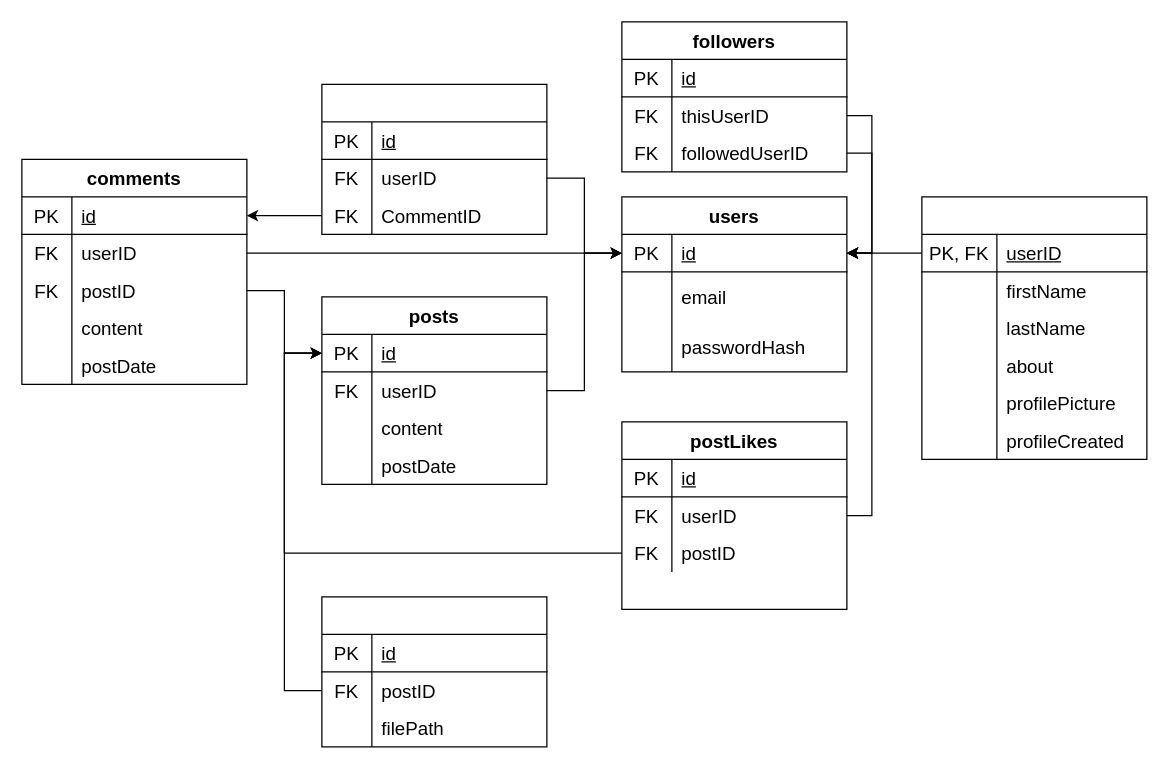
This 1169x769 diagram has some shape labels left out. Here are the shapes that lost their labels. From the top down, the box of each, then its label:
(321, 83, 547, 234): commentLikes
(921, 196, 1147, 459): userProfiles
(321, 596, 547, 747): postImages
